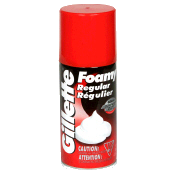grozi_87: (58, 4, 117, 169)
